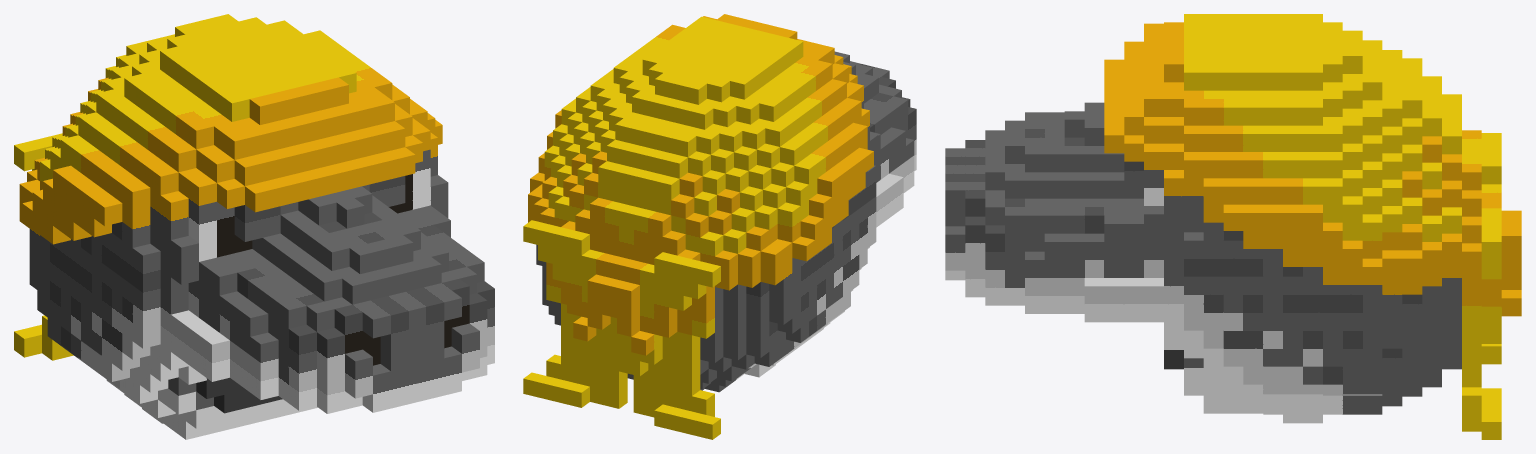
The model's file is yellow durag.gltf.
The picture shows the model from 3 angles, left to right: view 1: azimuth 30°, elevation 25°; view 2: azimuth 150°, elevation 25°; view 3: azimuth 270°, elevation 25°; orthographic projection. The views are drawn at different scales.
Visible parts, largest first — view 1: 01_Zilla_Head_YellowDurag-Mesh; view 2: 01_Zilla_Head_YellowDurag-Mesh; view 3: 01_Zilla_Head_YellowDurag-Mesh.
Boxes of the visible parts, x1,y1,x2,y2 form: 01_Zilla_Head_YellowDurag-Mesh: (14, 14, 494, 439); 01_Zilla_Head_YellowDurag-Mesh: (523, 14, 916, 439); 01_Zilla_Head_YellowDurag-Mesh: (945, 14, 1521, 439).
Size of the model in its own units: 19 by 19 by 29.
1 material, 1 textured.
